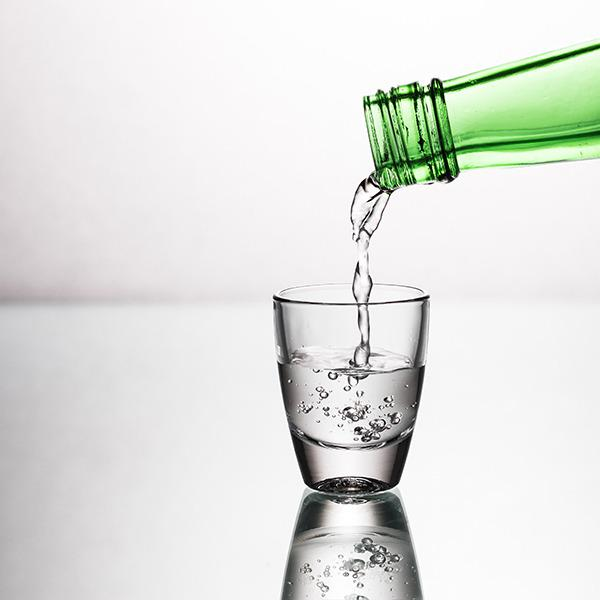soju: (352, 43, 600, 193)
